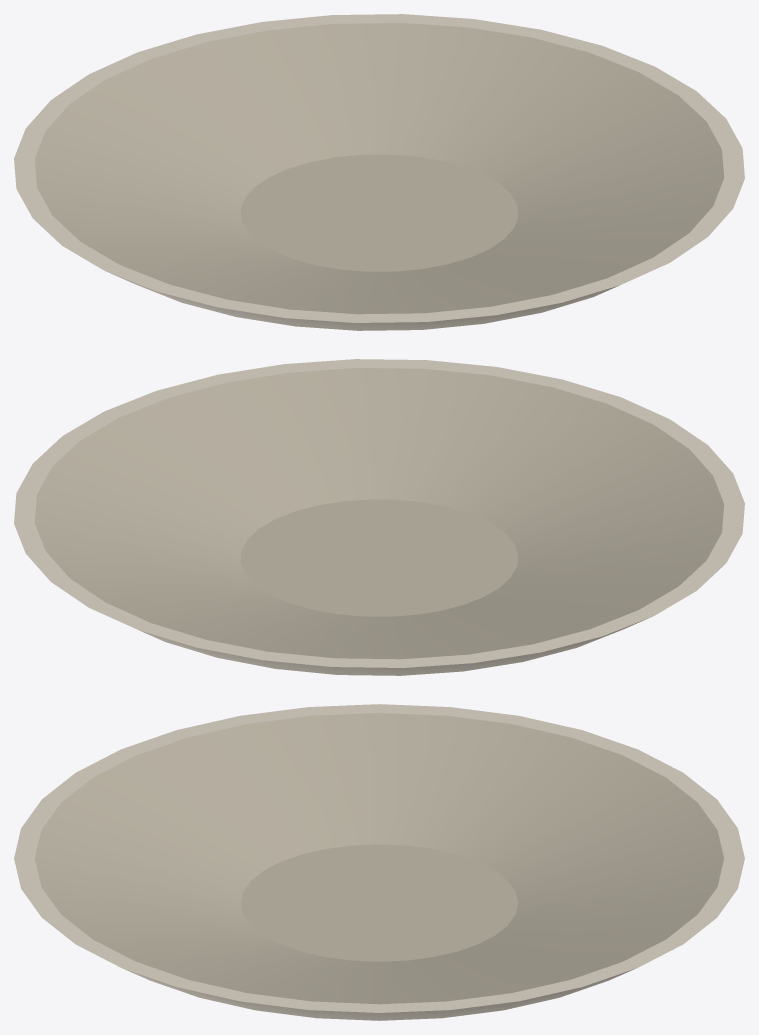
The model's file is Tabak.fbx.
3 renders of one model, top to bottom at view 1: azimuth 30°, elevation 25°; view 2: azimuth 150°, elevation 25°; view 3: azimuth 270°, elevation 25°, orthographic.
Parts seen in each view (by area): view 1: FinalTabak; view 2: FinalTabak; view 3: FinalTabak.
Boxes of the visible parts, x1,y1,x2,y2 form: FinalTabak: (14,14,744,330); FinalTabak: (14,359,744,675); FinalTabak: (14,704,744,1020).
Size of the model in its own units: 21.6 by 2.11 by 21.6.
